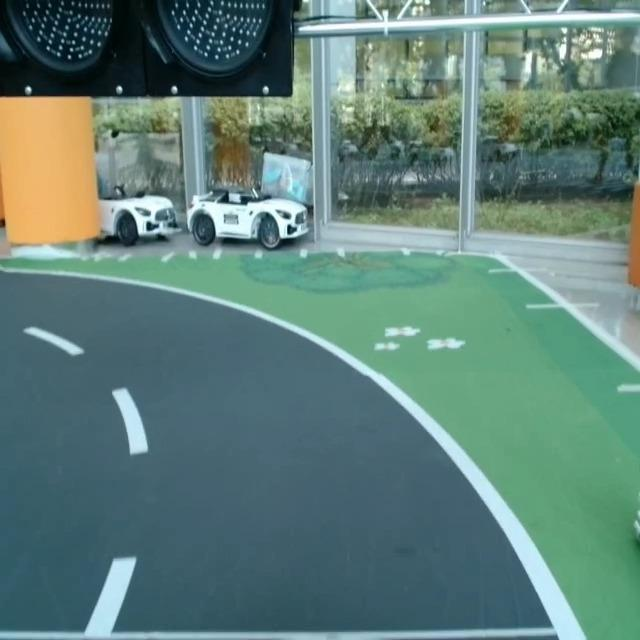traffic-light: (0, 0, 306, 108)
